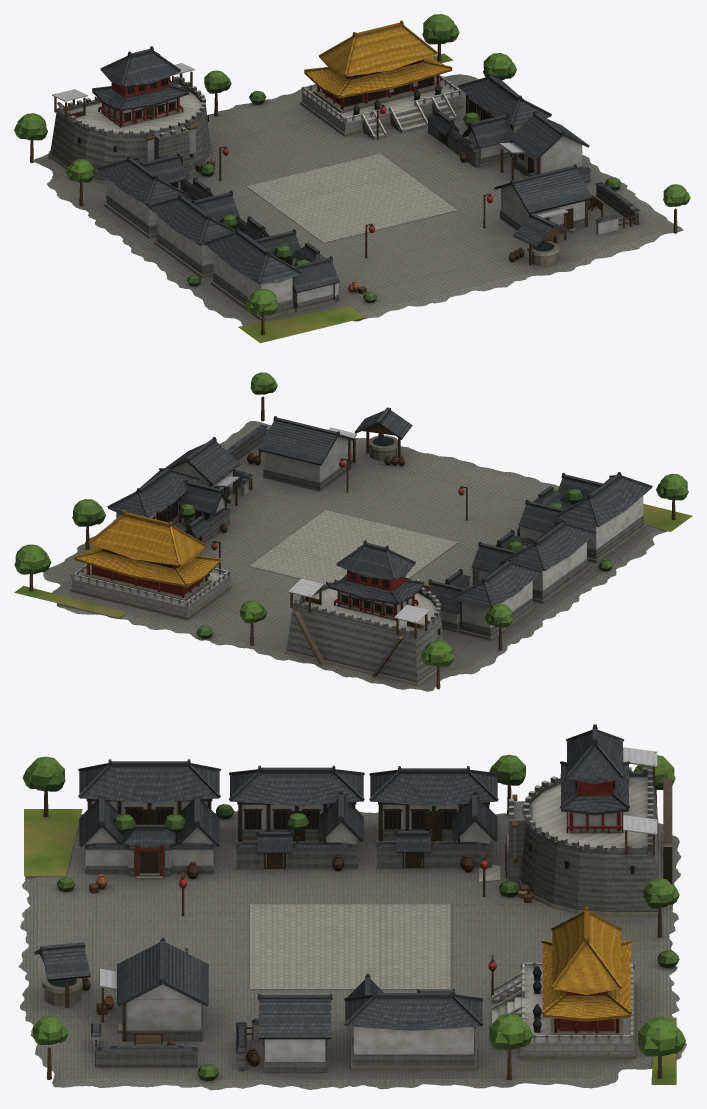
Rendered from gunpowder-town-small-a-sinic.glb.
3 views of the same model, one above another, from view 1: azimuth 30°, elevation 25°; view 2: azimuth 150°, elevation 25°; view 3: azimuth 270°, elevation 25° (orthographic). The views are drawn at different scales.
Parts seen in each view (by area): view 1: LOD0; view 2: LOD0; view 3: LOD0.
Boxes of the visible parts, bbox=[...] form: LOD0: bbox=[14, 14, 690, 343]; LOD0: bbox=[14, 372, 692, 691]; LOD0: bbox=[18, 724, 686, 1090].
Size of what is drawn, in the model's own units: 4.02 by 0.9629 by 4.06.
Materials: 3 (3 with a texture image).
